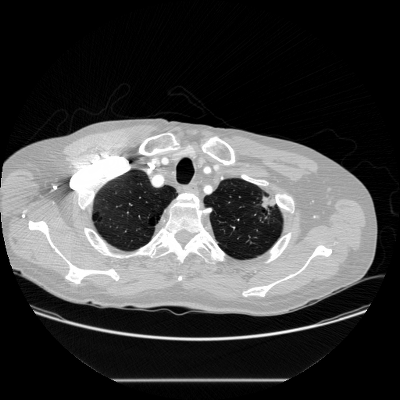nodule: (261, 197, 273, 209)
